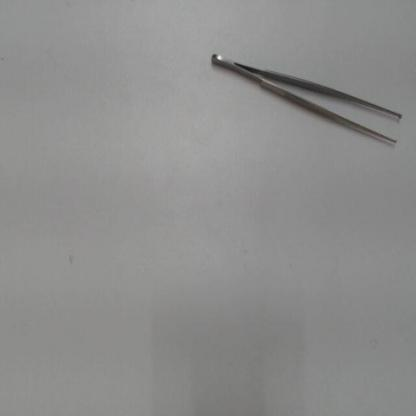Gillies Toothed Dissector: (207, 46, 408, 158)
